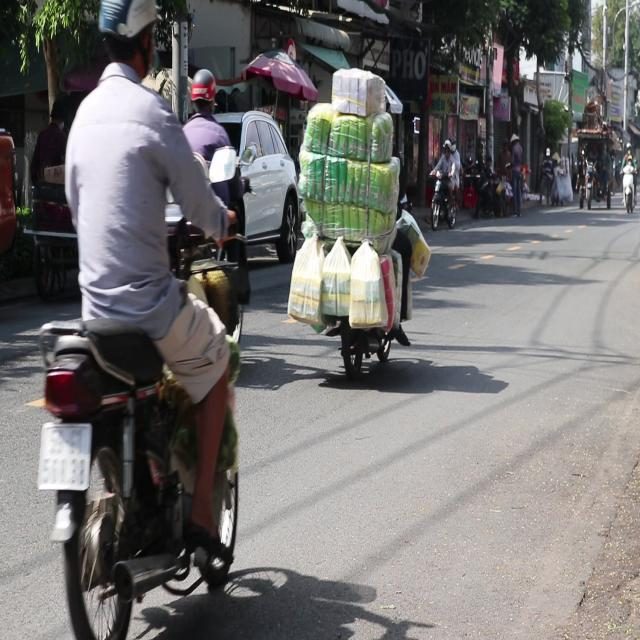helmet: (93, 0, 159, 84), (189, 66, 217, 118)
licenseplate: (27, 0, 251, 636)
nohelmet: (39, 422, 91, 488)
